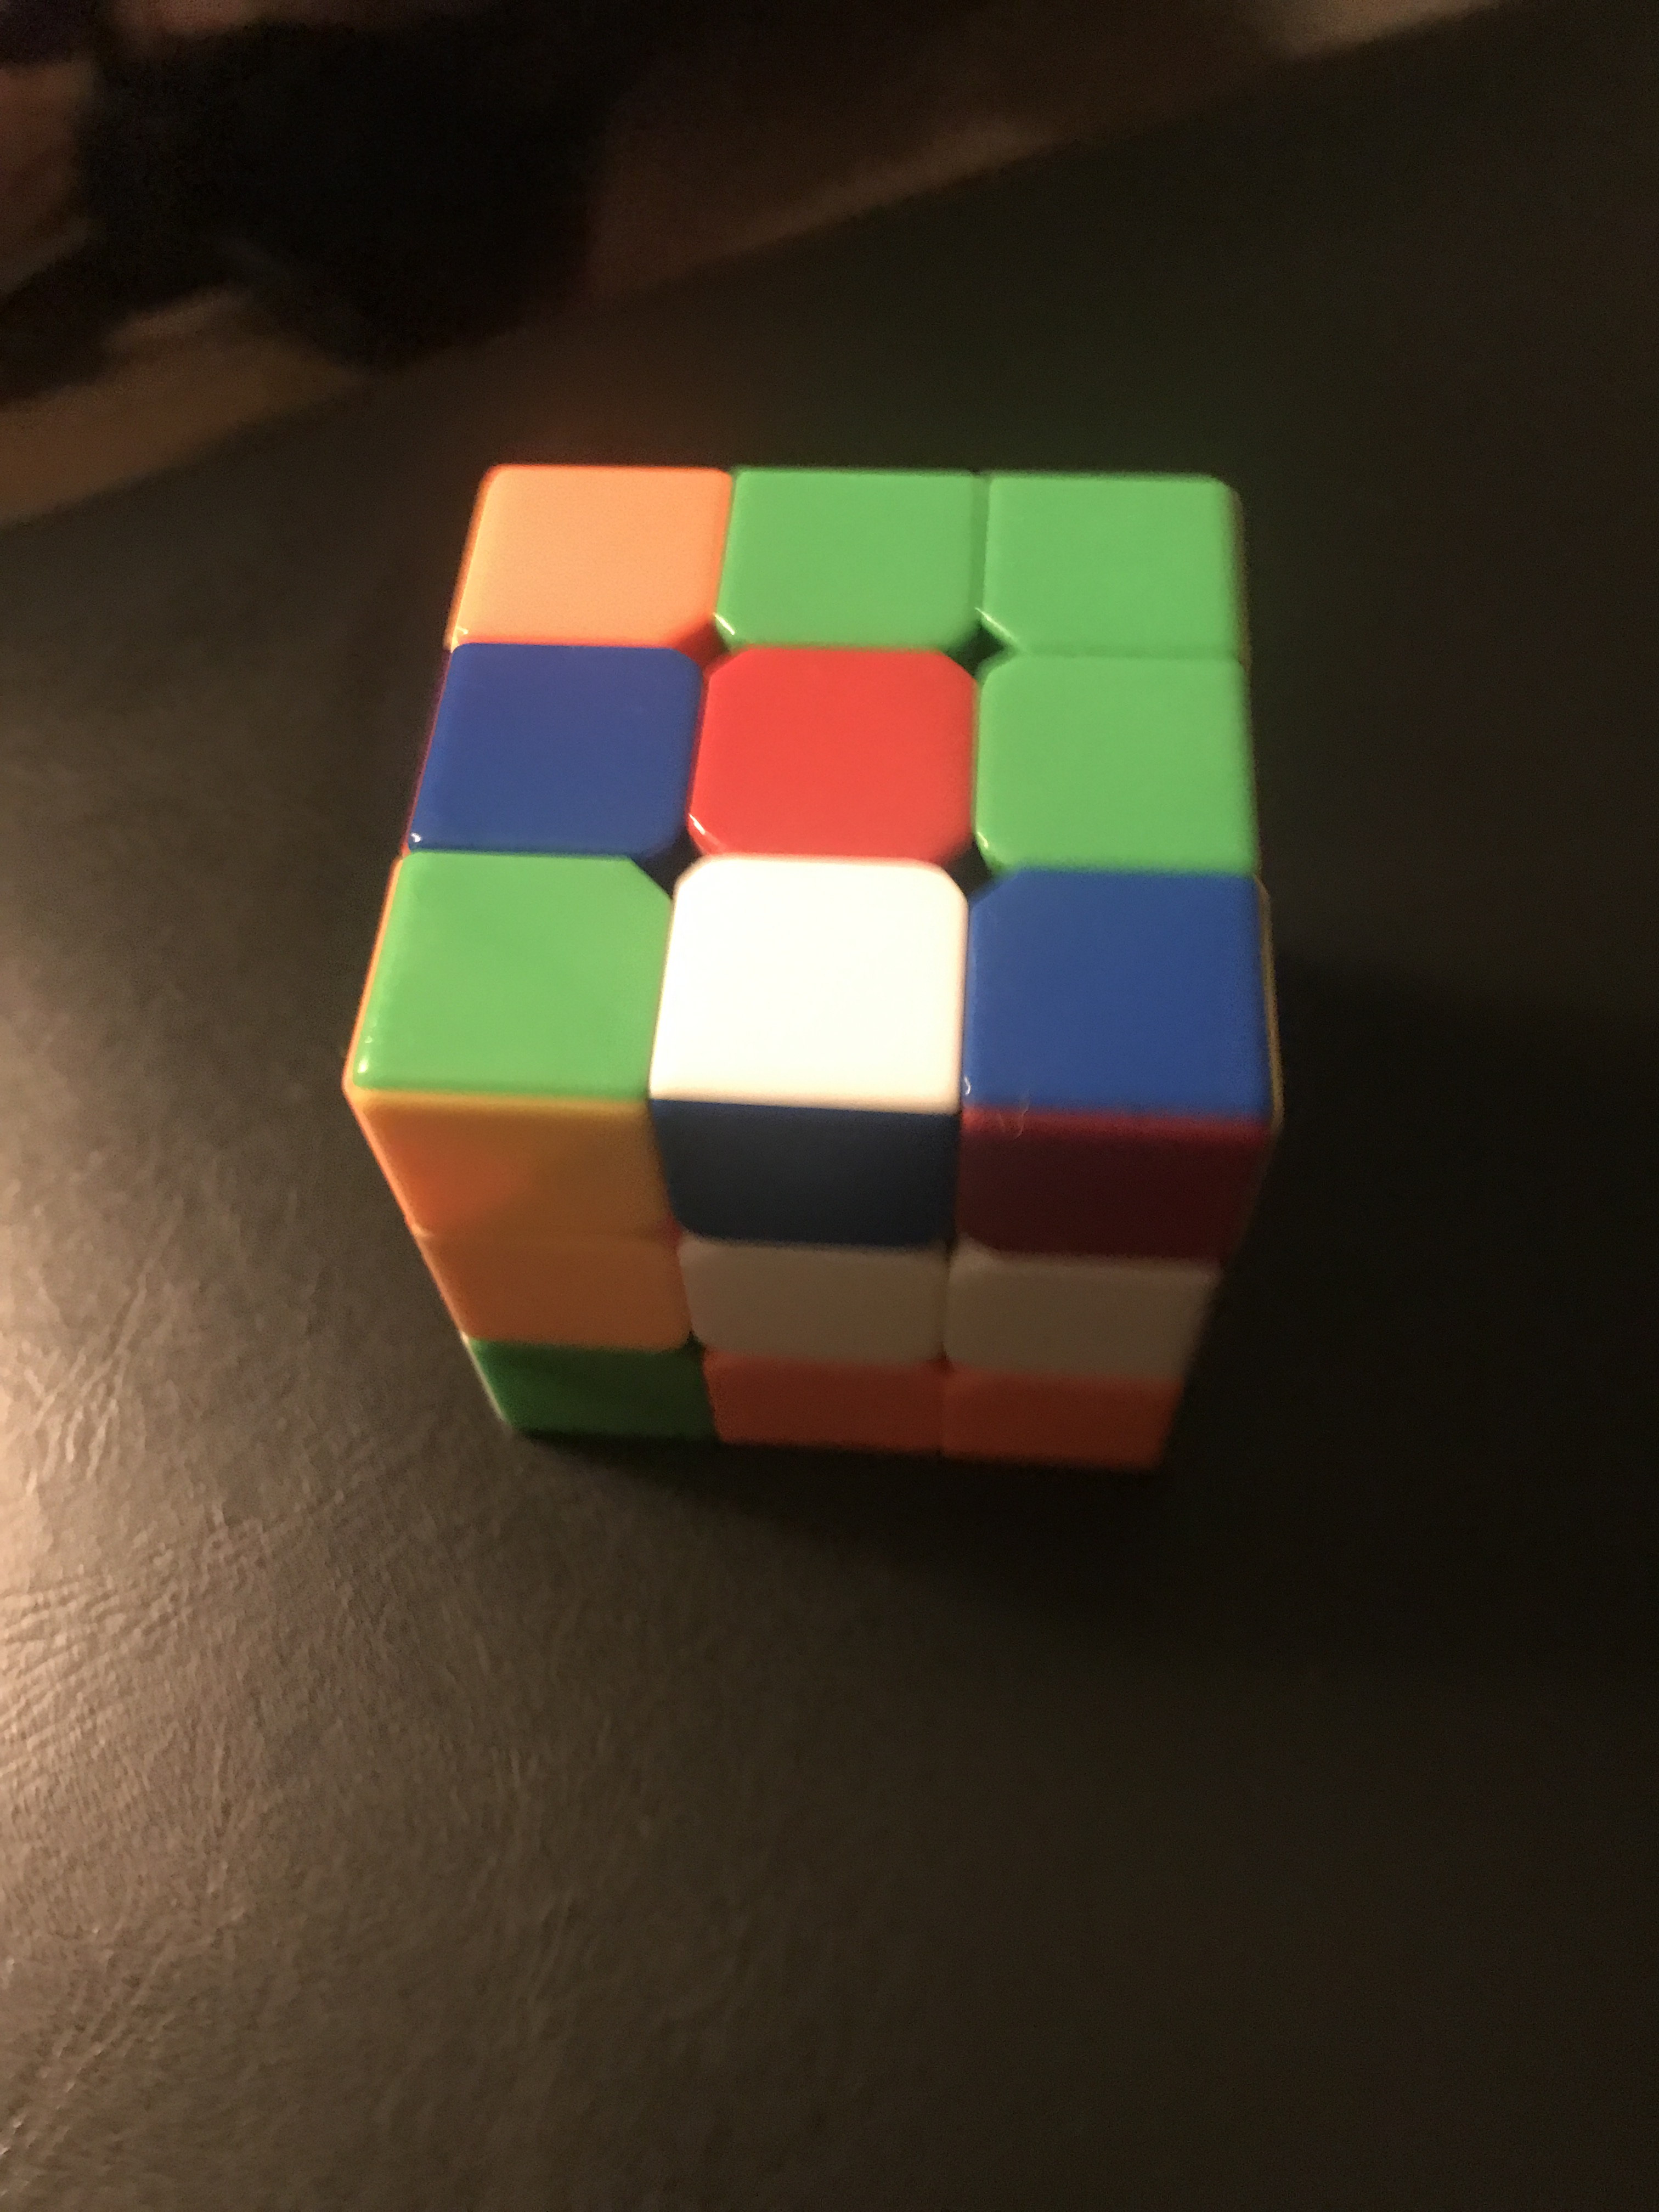rubiks: (340, 456, 1286, 1487)
